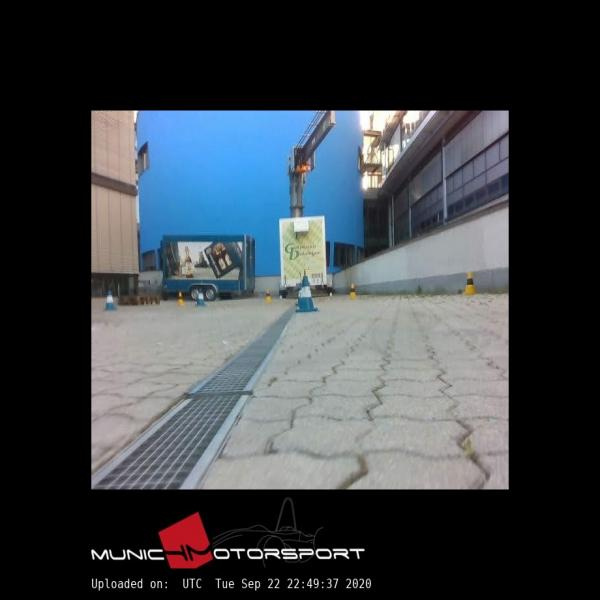blue_cone: (295, 276, 317, 312), (103, 290, 116, 310), (196, 289, 206, 307), (296, 284, 301, 306)
yellow_cone: (463, 272, 476, 294), (349, 284, 357, 300), (176, 292, 184, 306), (264, 288, 271, 300)
